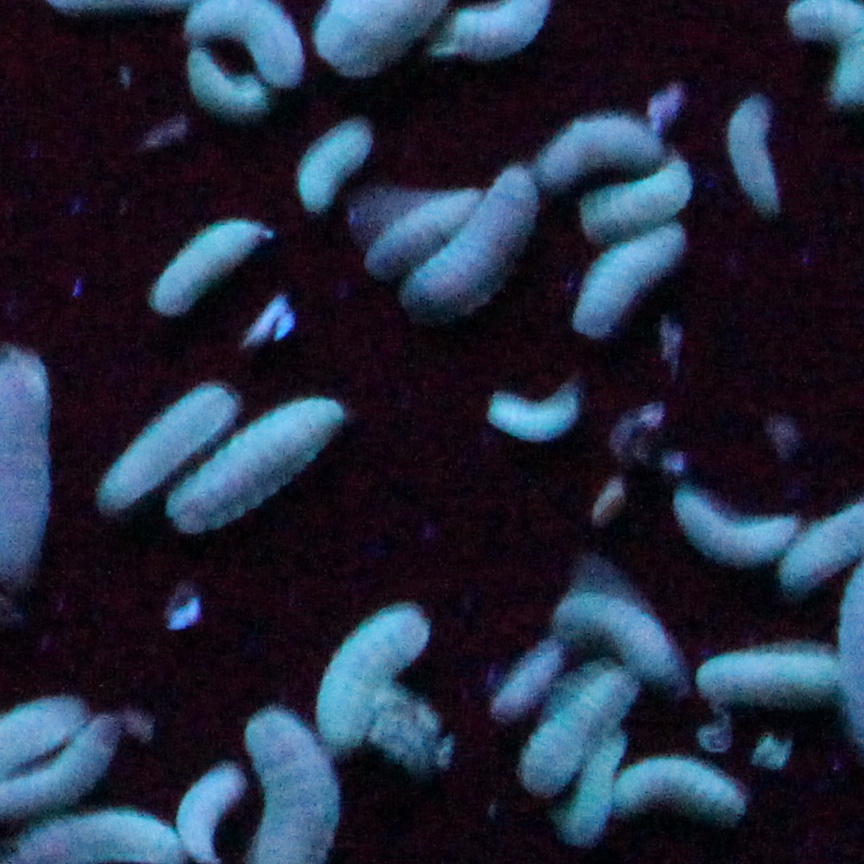larve: (168, 396, 347, 531), (401, 166, 537, 314), (89, 379, 237, 510), (307, 600, 432, 750), (524, 660, 639, 791), (559, 587, 691, 691), (570, 225, 684, 339), (149, 214, 270, 312), (676, 477, 799, 569), (582, 154, 701, 239), (697, 635, 845, 702), (612, 756, 747, 829), (553, 731, 639, 844), (541, 110, 670, 185), (376, 189, 487, 275), (726, 94, 795, 216), (491, 633, 568, 725), (484, 377, 584, 446), (299, 121, 372, 210), (184, 48, 264, 116)
